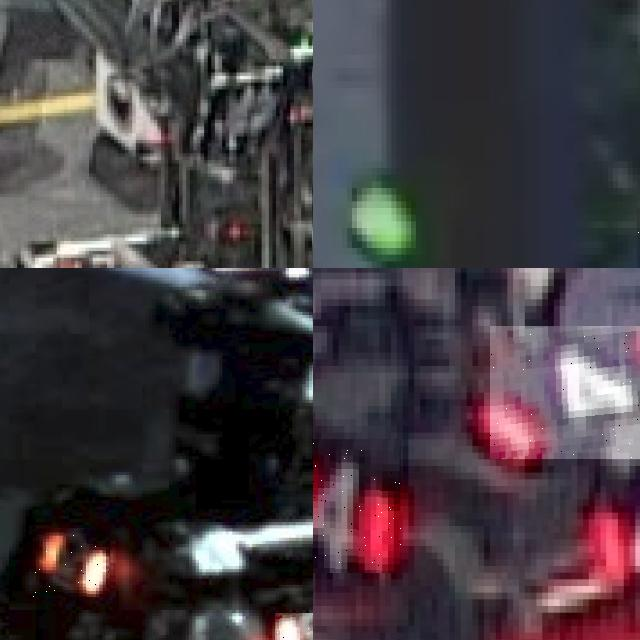R4: (490, 325, 640, 459), (313, 439, 402, 572), (600, 466, 640, 592)
Rs: (32, 529, 112, 597), (275, 613, 313, 640)
